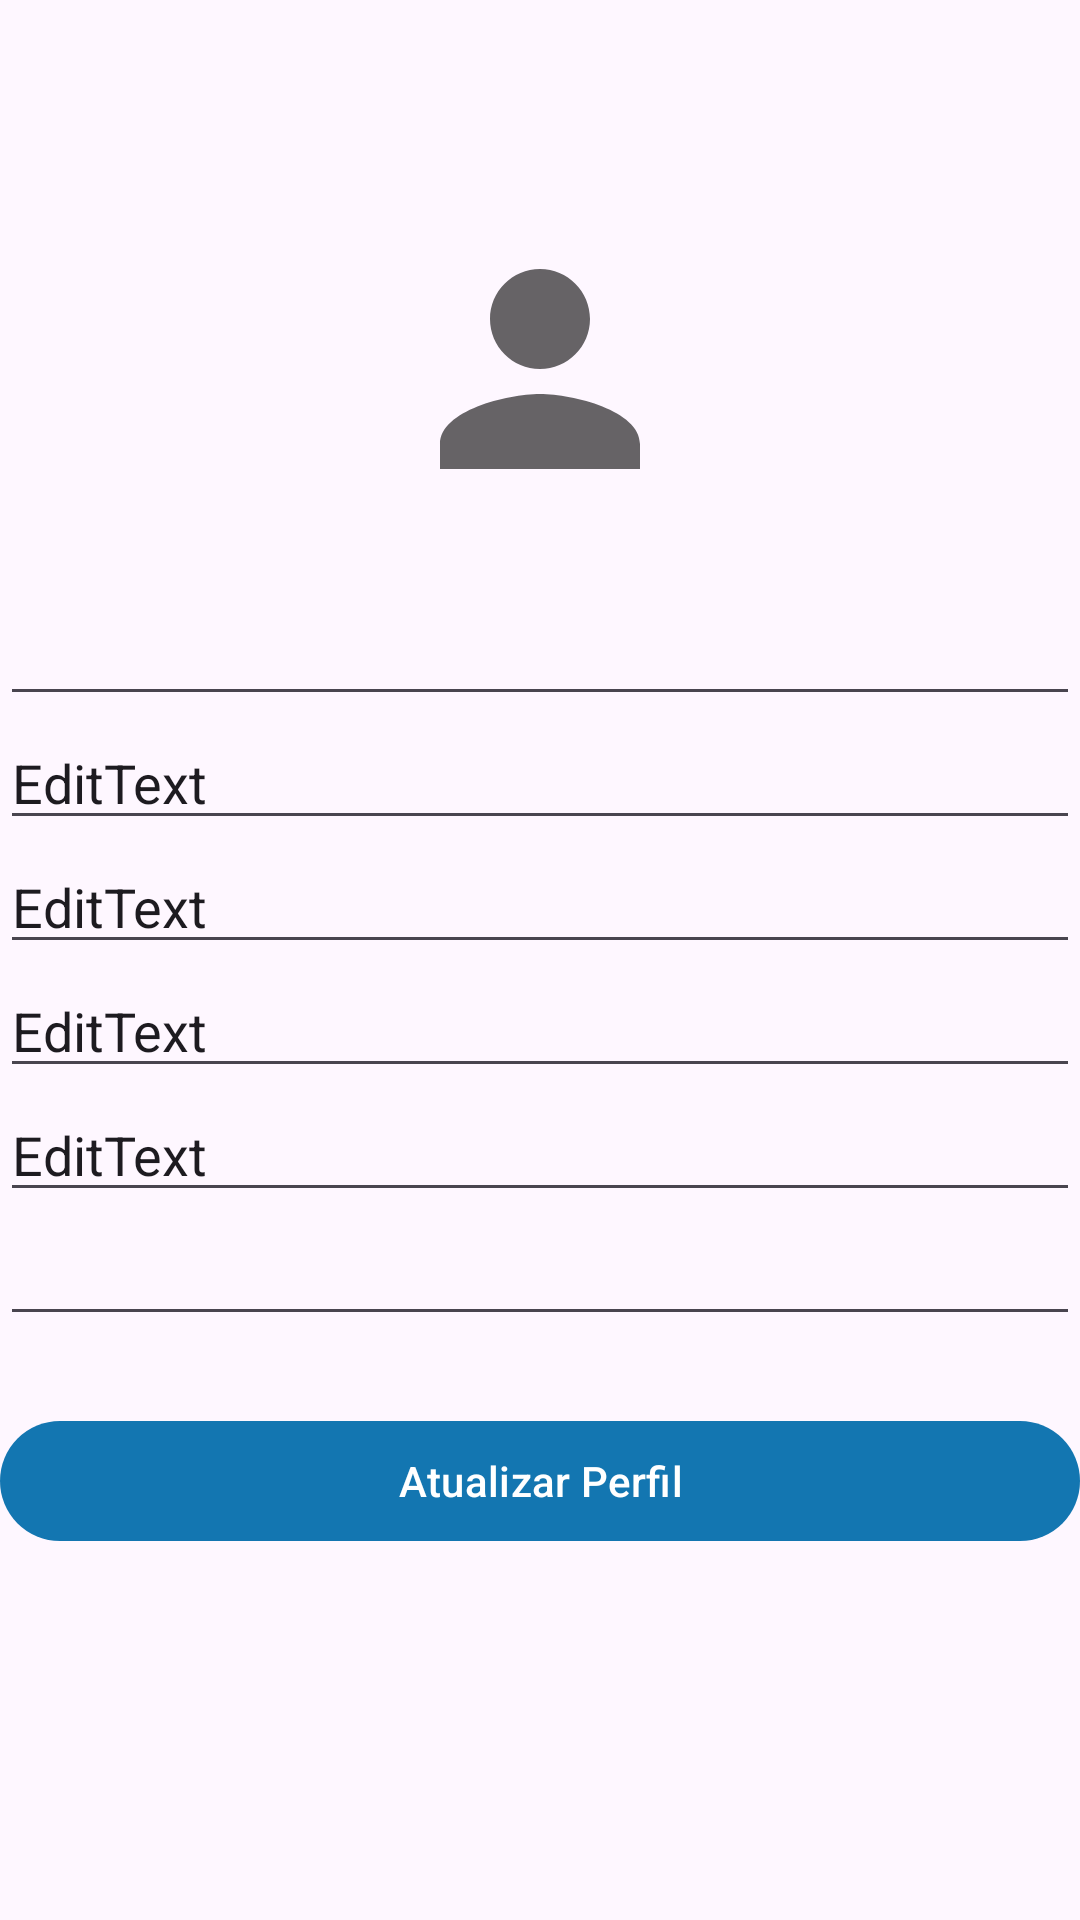

Icons on this 1080x1920 Android screen, each with its box as region(x1, y1, x2, y2):
user person: region(440, 269, 640, 469)
